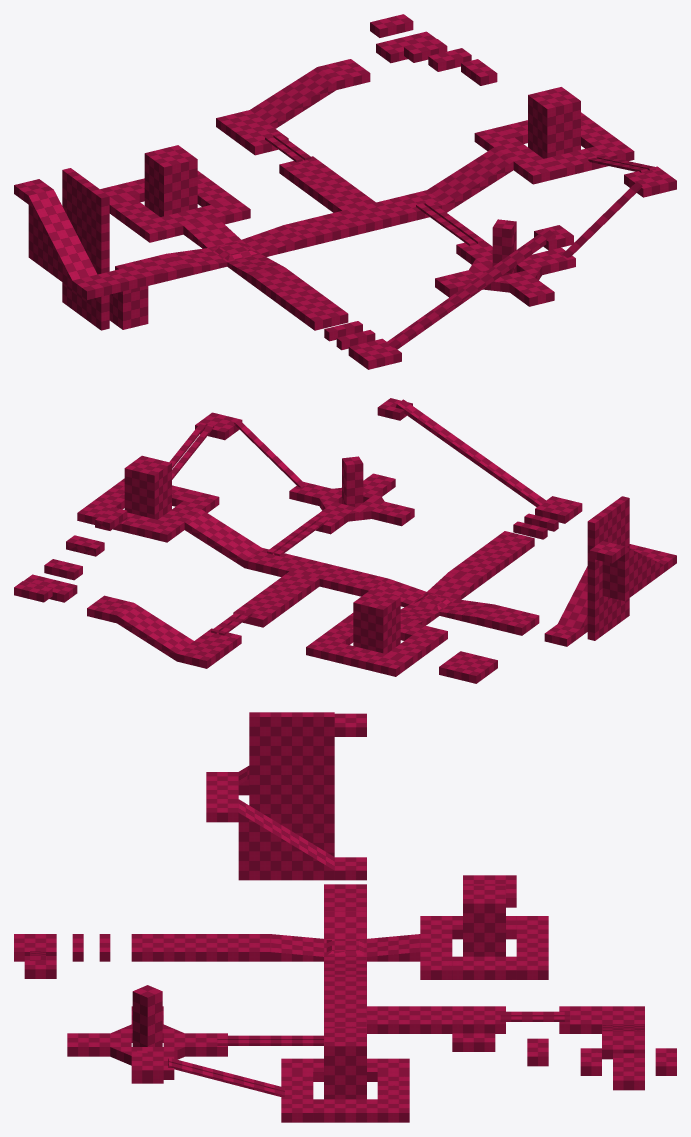
Rendered from VoideastLevelLayout.glb.
The picture shows the model from 3 angles, top to bottom: view 1: azimuth 30°, elevation 25°; view 2: azimuth 150°, elevation 25°; view 3: azimuth 270°, elevation 25°; orthographic projection. The views are drawn at different scales.
Visible parts, largest first — view 1: Box.057, Box.058, Box.002, Box.017, Box.023, Box.041, Box.006, Box.044, Box.020, Box.011, Box.013, Box.021 (+28 smaller); view 2: Box.057, Box.002, Box.017, Box.023, Box.006, Box.041, Box.058, Box.044, Box.015, Box.020, Box.011, Box.021 (+32 smaller); view 3: Box.057, Box.055, Box.041, Box.006, Box.017, Box.023, Box.002, Box.024, Box.013, Box.015, Box.010, Box.035 (+28 smaller).
Part boxes in pixels (<box>): Box.057: <box>62,168,109,330</box>; Box.058: <box>28,189,97,288</box>; Box.002: <box>284,190,446,247</box>; Box.017: <box>144,145,197,216</box>; Box.023: <box>528,87,580,158</box>; Box.041: <box>251,267,348,330</box>; Box.006: <box>279,156,375,212</box>; Box.044: <box>386,228,555,349</box>; Box.020: <box>427,147,513,212</box>; Box.011: <box>250,67,336,128</box>; Box.013: <box>135,199,250,242</box>; Box.021: <box>474,127,558,184</box>; Box.057: <box>587,496,629,640</box>; Box.002: <box>244,548,388,596</box>; Box.017: <box>353,590,400,653</box>; Box.023: <box>124,455,171,519</box>; Box.006: <box>233,571,319,627</box>; Box.041: <box>449,531,534,586</box>; Box.058: <box>602,546,663,601</box>; Box.044: <box>395,399,546,507</box>; Box.015: <box>306,638,408,676</box>; Box.020: <box>184,509,261,567</box>; Box.011: <box>117,603,193,661</box>; Box.021: <box>144,491,219,542</box>; Box.057: <box>249,712,334,856</box>; Box.055: <box>238,799,334,880</box>; Box.041: <box>131,934,270,961</box>; Box.006: <box>367,1006,505,1033</box>; Box.017: <box>463,885,505,956</box>; Box.023: <box>324,1028,366,1099</box>; Box.002: <box>324,974,366,1028</box>; Box.024: <box>313,1099,409,1122</box>; Box.013: <box>420,916,452,979</box>; Box.015: <box>516,916,548,979</box>; Box.010: <box>559,1006,644,1033</box>; Box.035: <box>132,985,162,1046</box>.
Bounding box in the file's own units: 69 × 15 × 62.
2 materials, 2 textured.
